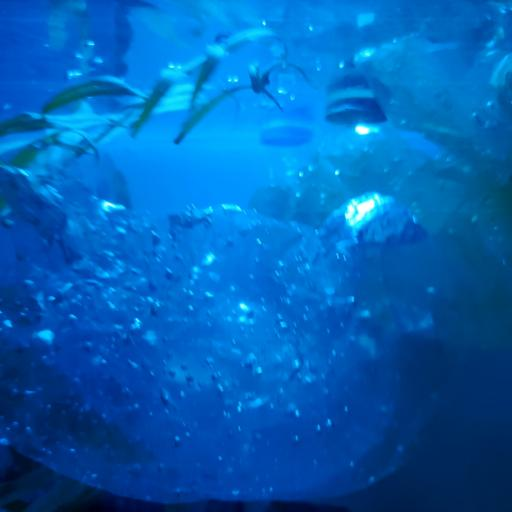bottle_cap: (328, 95, 383, 125), (263, 123, 310, 147)
plastic_bag: (0, 138, 512, 497)
